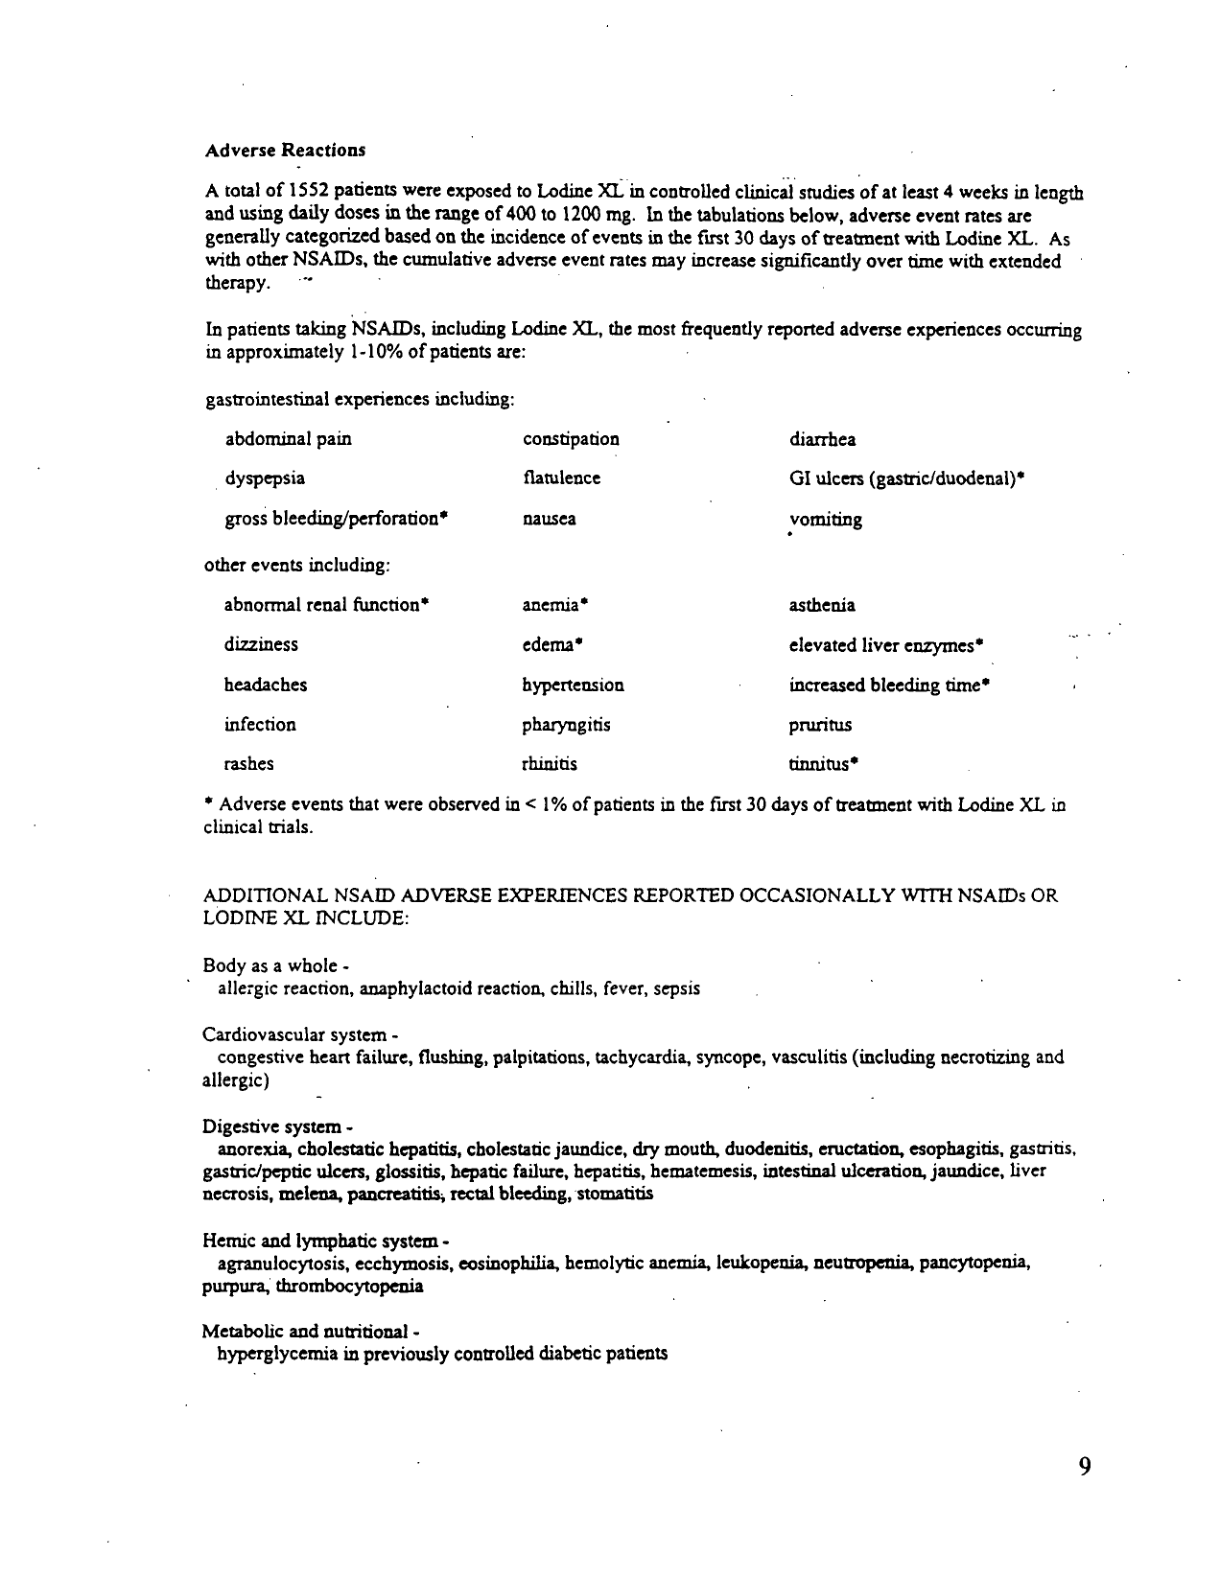nolines: (204, 428, 1027, 777)
